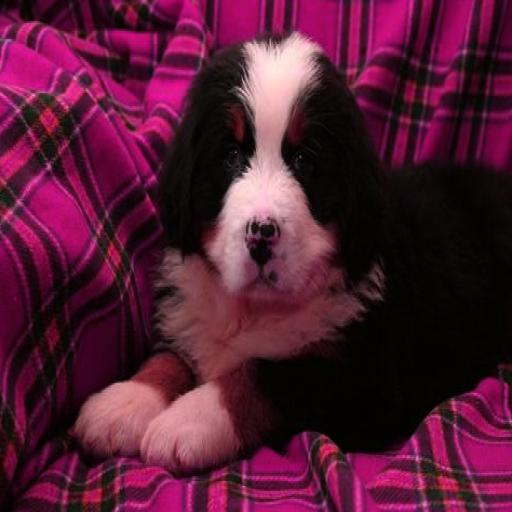dog_face: (174, 47, 371, 286)
